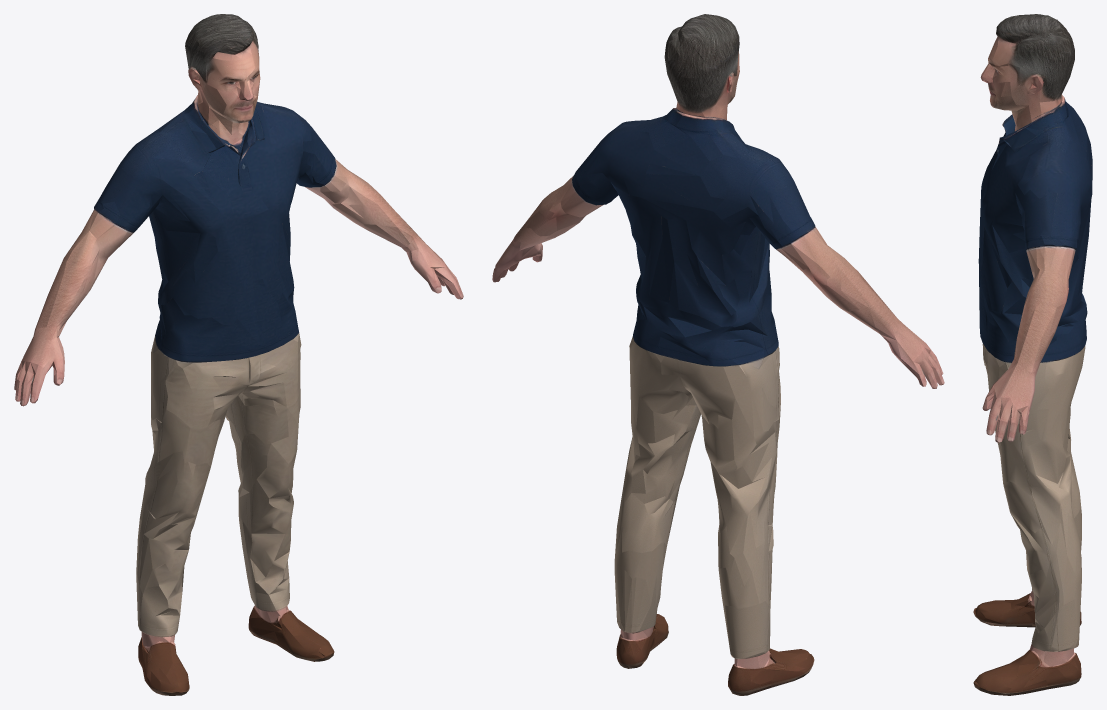
Rendered from image3d.glb.
3 renders of one model, left to right at view 1: azimuth 30°, elevation 25°; view 2: azimuth 150°, elevation 25°; view 3: azimuth 270°, elevation 25°, orthographic.
Bounding box in the file's own units: 1.37 × 1.9 × 0.3225.
1 material, 1 textured.
